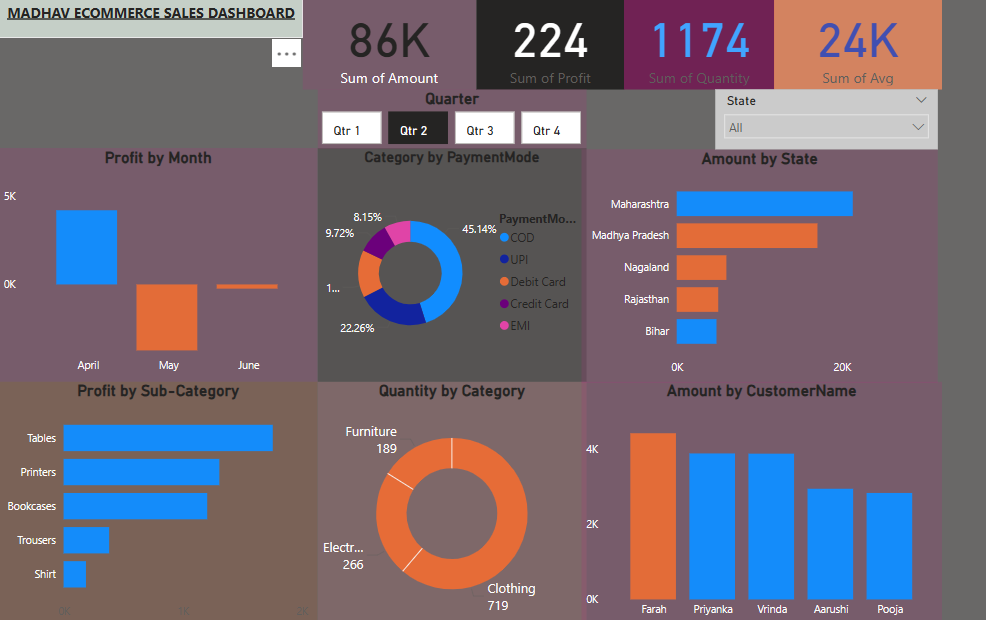

This screenshot's page, from the dashboard's own definition file:
{"tool":"powerbi","page":{"name":"Page 1","canvas":[1280,720],"ordinal":0},"visuals":[{"type":"textbox","box":[0,0,347.5,45.8],"z":0},{"type":"columnChart","title":"Profit by Month","fields":{"Category":["Orders.Order Date.Variation.Date Hierarchy.Month"],"Y":["Details.Profit"]},"box":[0,172,364,267],"z":1000},{"type":"barChart","title":"Profit by Sub-Category","fields":{"Category":["Details.Sub-Category"],"Y":["Details.Profit"]},"box":[0,439,364,281],"z":2000},{"type":"donutChart","title":" Quantity by Category","fields":{"Category":["Details.Category"],"Y":["Details.Quantity"]},"box":[364,439,307,281],"z":3000},{"type":"donutChart","title":"Category by PaymentMode","fields":{"Category":["Details.PaymentMode"],"Y":["Details.Category"]},"box":[364,172,307,267],"z":4000},{"type":"card","fields":{"Values":["Details.Amount"]},"box":[347,1,198,103],"z":5000},{"type":"card","fields":{"Values":["Details.Profit"]},"box":[545,1,169,103],"z":6000},{"type":"card","fields":{"Values":["Details.Quantity"]},"box":[714,1,172,103],"z":7000},{"type":"card","fields":{"Values":["Details.Avg"]},"box":[886,1,192,103],"z":8000},{"type":"barChart","title":"Amount by State","fields":{"Category":["Orders.State"],"Y":["Details.Amount"]},"box":[671,172,407,267],"z":9000},{"type":"columnChart","title":"Amount by CustomerName","fields":{"Category":["Orders.CustomerName"],"Y":["Details.Amount"]},"box":[666,439,412,279],"z":10000},{"type":"advancedSlicerVisual","fields":{"Values":["Orders.Order Date.Variation.Date Hierarchy.Quarter"]},"box":[364,104,307,68],"z":11000},{"type":"slicer","fields":{"Values":["Orders.State"]},"box":[824,103.8,254.6,68.8],"z":11001}]}

Visuals, with their boxes on the page's 1280x720 design canvas (x1, y1, x2, y2). These are canvas units, not pixel positions in the 986x620 screenshot, which may show the page scaled, cropped or inside an application window:
textbox: 0:0:348:46
"Profit by Month" columnChart: 0:172:364:439
"Profit by Sub-Category" barChart: 0:439:364:720
" Quantity by Category" donutChart: 364:439:671:720
"Category by PaymentMode" donutChart: 364:172:671:439
card - Details.Amount: 347:1:545:104
card - Details.Profit: 545:1:714:104
card - Details.Quantity: 714:1:886:104
card - Details.Avg: 886:1:1078:104
"Amount by State" barChart: 671:172:1078:439
"Amount by CustomerName" columnChart: 666:439:1078:718
advancedSlicerVisual - Orders.Order Date.Variation.Date Hierarchy.Quarter: 364:104:671:172
slicer - Orders.State: 824:104:1079:173
